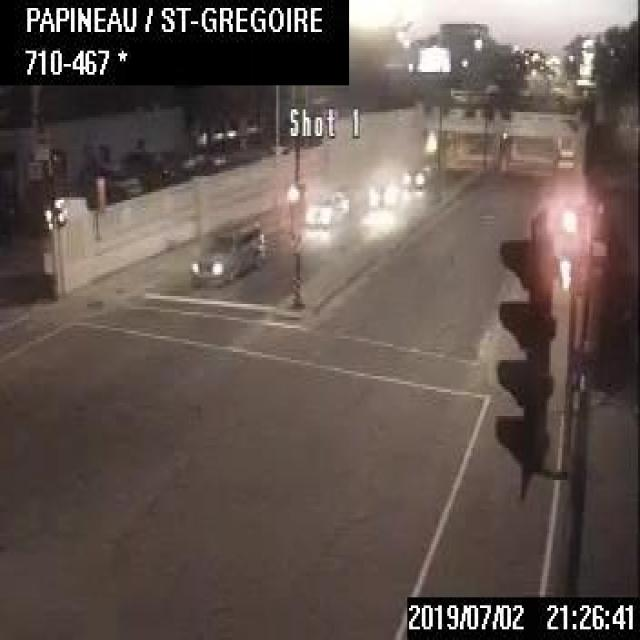vehicle: (187, 216, 262, 283), (304, 187, 347, 224), (401, 162, 430, 191), (366, 179, 398, 205)
